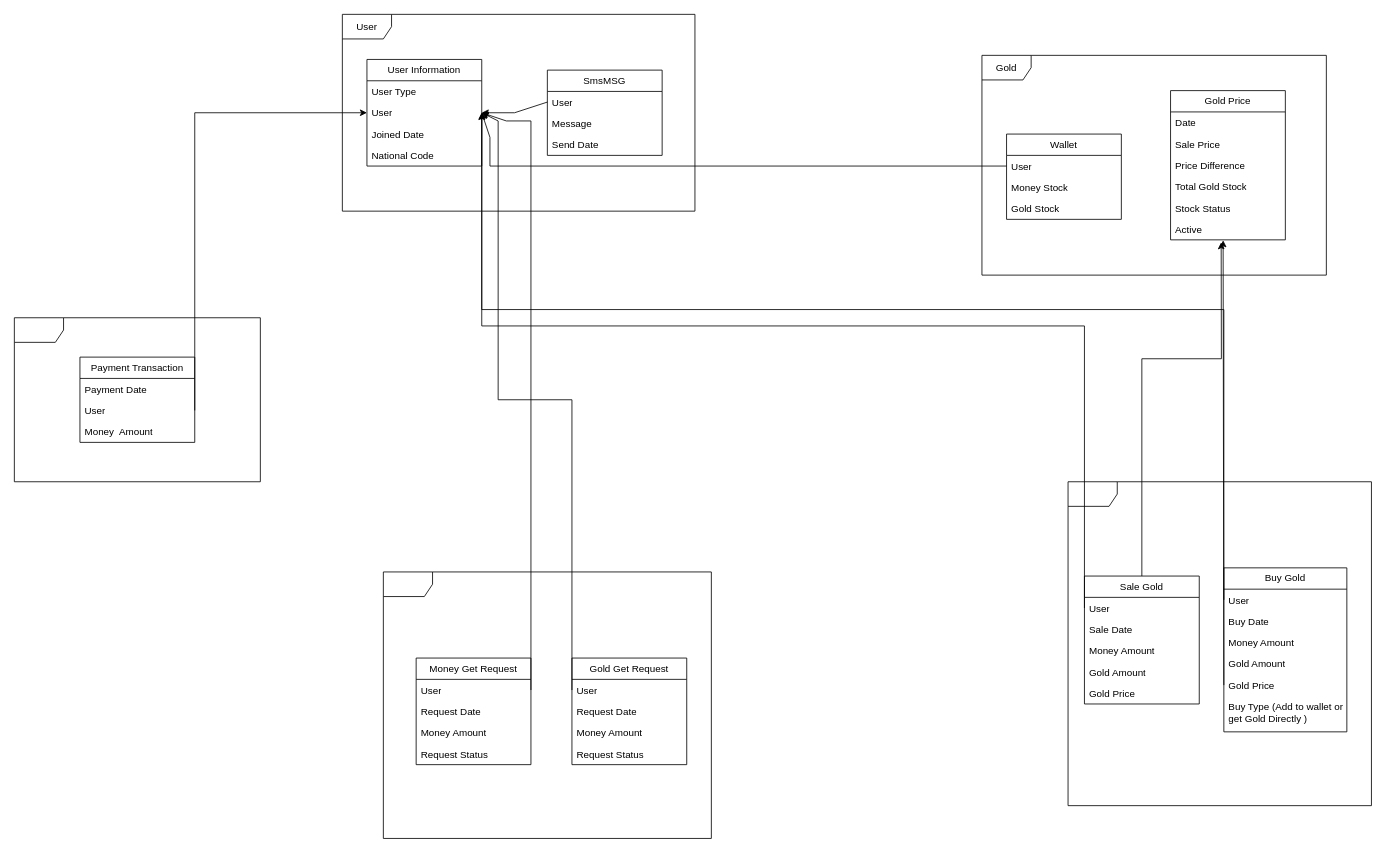
Image size: 1386x853. Some labels were removed from this diagram. Each missing label, with the centre of its shape:
Payment: (137,399)
Request: (547,704)
Stock: (1219,643)
